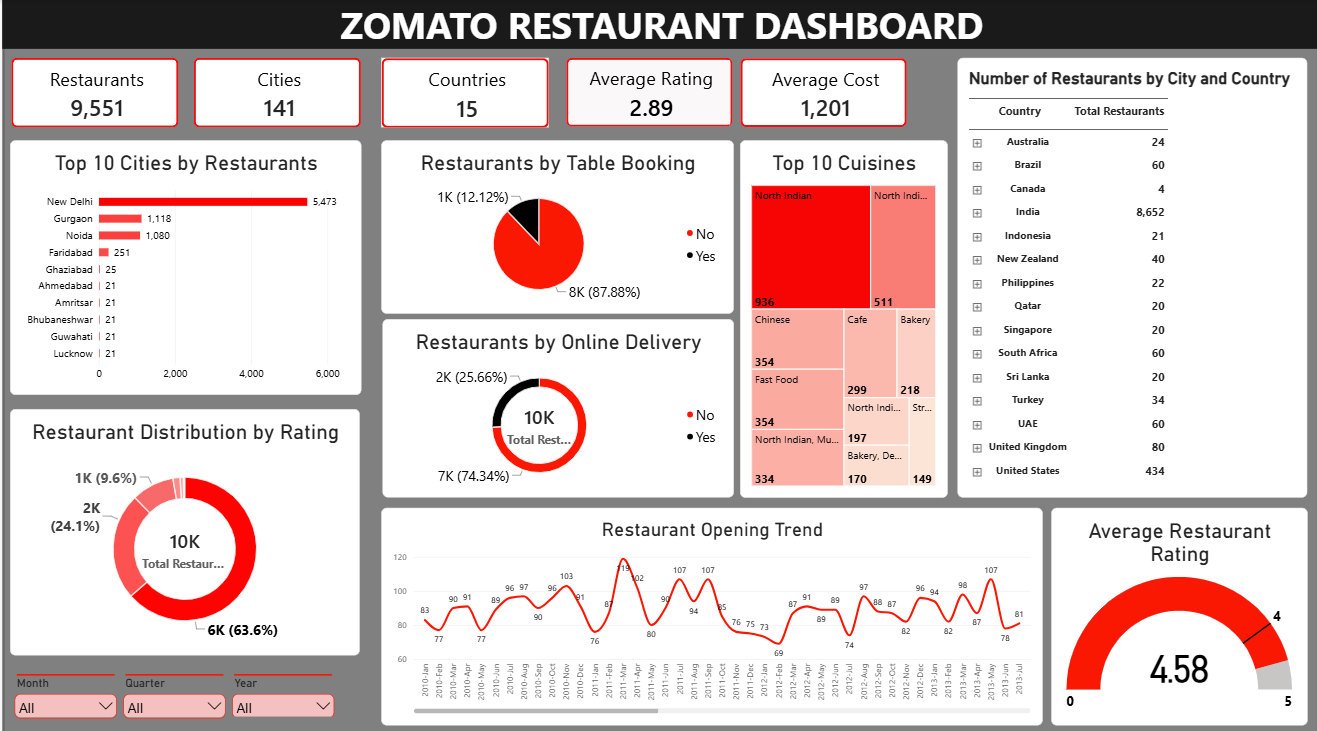

What the dashboard file says about the page in this screenshot:
{"tool":"powerbi","page":{"name":"Final Dashboard","canvas":[1920,1080],"ordinal":10},"visuals":[{"type":"shape","box":[10.9,0,1907.4,1064.1],"z":0},{"type":"shape","box":[10.9,0,1909.2,72.4],"z":1},{"type":"cardVisual","fields":{"Data":["CLEANED_DATA.Total Restaurants"]},"box":[23.5,85.1,242.5,101.3],"z":2},{"type":"cardVisual","fields":{"Data":["CLEANED_DATA.Total Cities"]},"box":[287.7,85.1,242.5,101.3],"z":3},{"type":"cardVisual","fields":{"Data":["CLEANED_DATA.Total Countries"]},"box":[559.2,85.1,242.5,101.3],"z":4},{"type":"cardVisual","fields":{"Data":["CLEANED_DATA.Average Rating"]},"box":[827,85.1,242.5,101.3],"z":5},{"type":"cardVisual","fields":{"Data":["CLEANED_DATA.Average Cost"]},"box":[1078.6,85.1,242.5,101.3],"z":6},{"type":"pivotTable","title":"Number of Restaurants by City and Country","fields":{"Rows":["Country_Code.Country","CLEANED_DATA.City"],"Values":["CLEANED_DATA.Total Restaurants"]},"box":[1393.4,85.1,506.7,637],"z":7},{"type":"slicer","fields":{"Values":["Calendar.Year"]},"box":[338.4,977.2,157.4,61.5],"z":9},{"type":"slicer","fields":{"Values":["Calendar.Quarter"]},"box":[181,977.2,157.4,74.2],"z":10},{"type":"slicer","fields":{"Values":["Calendar.Monthfullname"]},"box":[23.5,977.2,157.4,74.2],"z":11},{"type":"pieChart","title":"Restaurants by Table Booking","fields":{"Category":["CLEANED_DATA.Has_Table_booking"],"Y":["CLEANED_DATA.Total Restaurants"]},"box":[559.2,204.5,510.3,251.5],"z":12},{"type":"donutChart","title":"Restaurants by Online Delivery","fields":{"Category":["CLEANED_DATA.Has_Online_delivery"],"Y":["CLEANED_DATA.Total Restaurants"]},"box":[561,463.3,508.5,258.8],"z":13},{"type":"donutChart","title":"Restaurant Distribution by Rating","fields":{"Category":["CLEANED_DATA.Price Bucket"],"Y":["CLEANED_DATA.Total Restaurants"]},"box":[21.7,593.6,506.7,356.5],"z":14},{"type":"treemap","title":"Top 10 Cuisines","fields":{"Group":["CLEANED_DATA.Cuisines"],"Values":["CLEANED_DATA.Total Restaurants"]},"box":[1078.6,204.5,300.4,517.6],"z":15},{"type":"clusteredBarChart","title":"Top 10 Cities by Restaurants","fields":{"Category":["CLEANED_DATA.City"],"Y":["CLEANED_DATA.Total Restaurants"]},"box":[21.7,204.5,508.5,369.2],"z":16},{"type":"gauge","title":"Average Restaurant Rating","fields":{"MaxValue":["CLEANED_DATA.Gauge maximum"],"MinValue":["CLEANED_DATA.Gauge Minimun"],"TargetValue":["CLEANED_DATA.Gauge Target"],"Y":["CLEANED_DATA.Average Rating"]},"box":[1529.2,736.5,371,314.9],"z":17},{"type":"lineChart","title":"Restaurant Opening Trend","fields":{"Category":["Calendar.YearMonth"],"Y":["CLEANED_DATA.Total Restaurants"]},"box":[559.2,736.5,957.3,314.9],"z":18}]}

Visuals, with their boxes in screenshot pixels (x1, y1, x2, y2), scaled from the page's 1920x1080 canvas onto the 1317x731 screenshot:
shape: 7:0:1316:720
shape: 7:0:1316:49
cardVisual - CLEANED_DATA.Total Restaurants: 16:58:182:126
cardVisual - CLEANED_DATA.Total Cities: 197:58:364:126
cardVisual - CLEANED_DATA.Total Countries: 384:58:550:126
cardVisual - CLEANED_DATA.Average Rating: 567:58:734:126
cardVisual - CLEANED_DATA.Average Cost: 740:58:906:126
"Number of Restaurants by City and Country" pivotTable: 956:58:1303:489
slicer - Calendar.Year: 232:661:340:703
slicer - Calendar.Quarter: 124:661:232:712
slicer - Calendar.Monthfullname: 16:661:124:712
"Restaurants by Table Booking" pieChart: 384:138:734:309
"Restaurants by Online Delivery" donutChart: 385:314:734:489
"Restaurant Distribution by Rating" donutChart: 15:402:362:643
"Top 10 Cuisines" treemap: 740:138:946:489
"Top 10 Cities by Restaurants" clusteredBarChart: 15:138:364:388
"Average Restaurant Rating" gauge: 1049:499:1303:712
"Restaurant Opening Trend" lineChart: 384:499:1040:712
